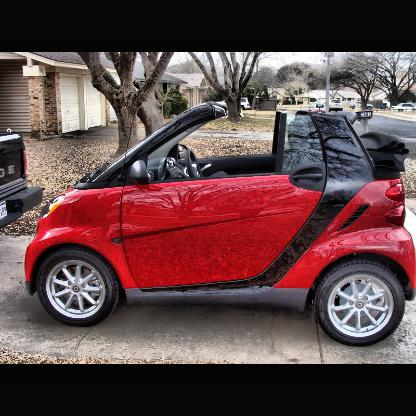smart fortwo Convertible 2012: (24, 98, 416, 350)
